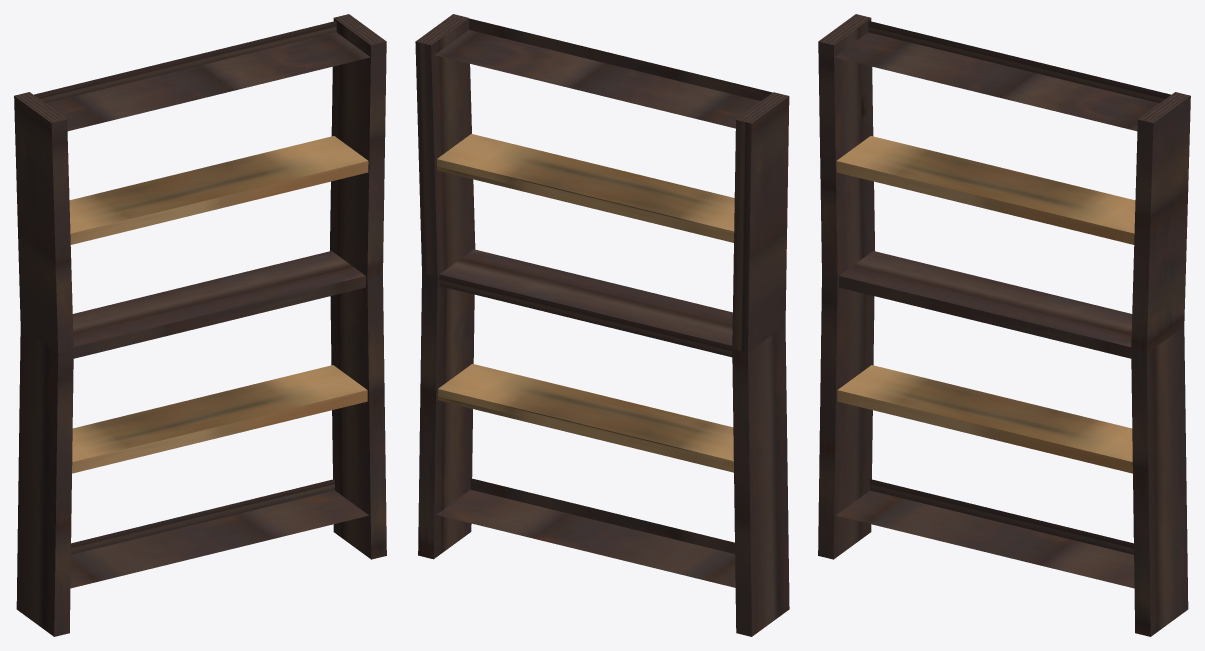
File: Alchemy Assets Browser.fbx_Shelf.fbx
3 renders of one model, left to right at view 1: azimuth 30°, elevation 25°; view 2: azimuth 150°, elevation 25°; view 3: azimuth 330°, elevation 25°, orthographic.
Parts seen in each view (by area): view 1: Shelf; view 2: Shelf; view 3: Shelf.
Boxes of the visible parts, box(x1,y1,x2,y2) form: Shelf: box(14, 14, 386, 636); Shelf: box(415, 14, 789, 636); Shelf: box(818, 14, 1190, 636).
Size of the model in its own units: 102 by 150 by 20.63.
